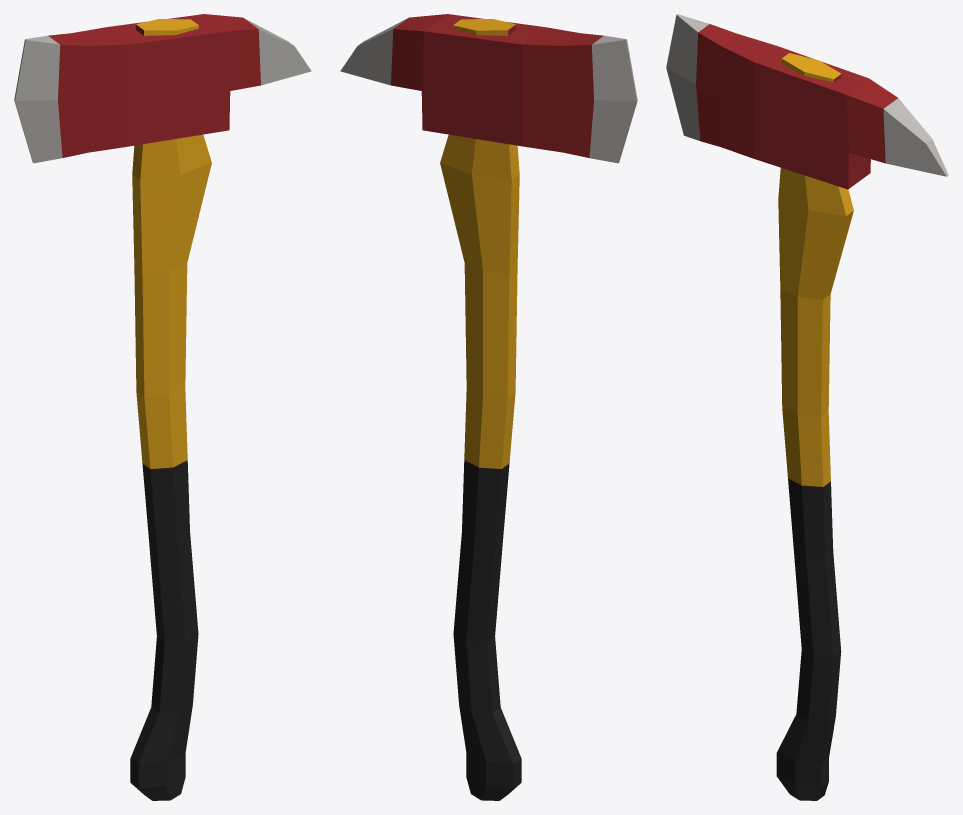
The model's file is Horror2020_Axe.fbx.
3 views of the same model, side by side, from view 1: azimuth 30°, elevation 25°; view 2: azimuth 150°, elevation 25°; view 3: azimuth 330°, elevation 25° (orthographic). The views are drawn at different scales.
Visible parts, largest first — view 1: Axe; view 2: Axe; view 3: Axe.
Boxes of the visible parts, x1,y1,x2,y2 form: Axe: (14, 14, 311, 800); Axe: (340, 14, 637, 800); Axe: (666, 14, 948, 800).
Bounding box in the file's own units: 173 × 440 × 24.01.
